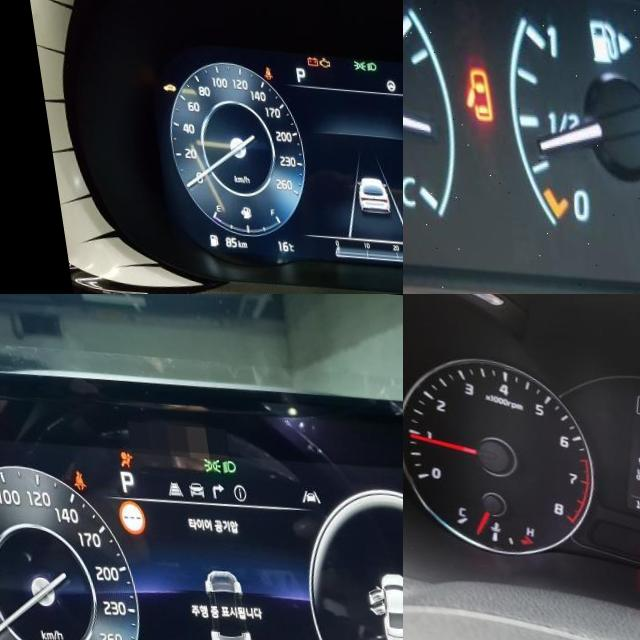LaneCenteringOff: (294, 480, 313, 496)
Low beam: (215, 452, 230, 469), (358, 56, 369, 66)
SideLamp: (196, 451, 216, 468), (344, 54, 358, 65)
